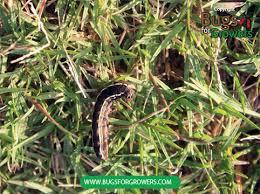fallarmy_worm: (89, 81, 134, 161)
